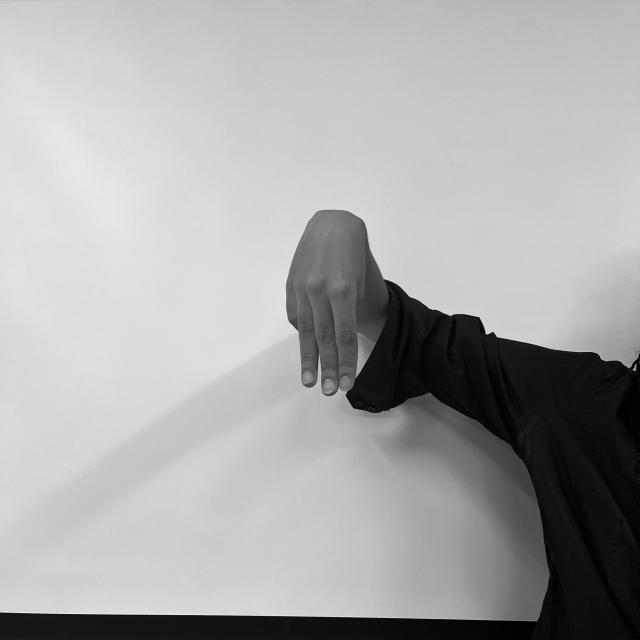Letra M: (280, 205, 372, 396)
